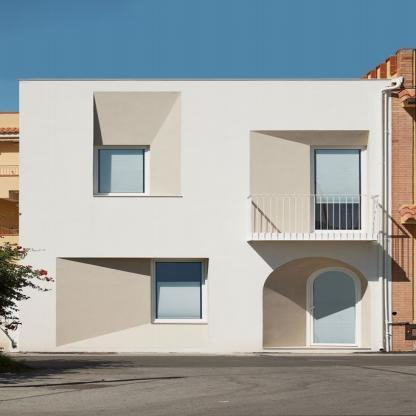Balcony: (250, 195, 379, 234)
Building Outline: (17, 78, 392, 353)
Door: (310, 268, 358, 346)
Facade: (17, 78, 393, 354)
Floor Slab: (20, 234, 377, 240)
Window: (315, 150, 360, 230), (156, 262, 201, 319), (99, 150, 144, 193)
